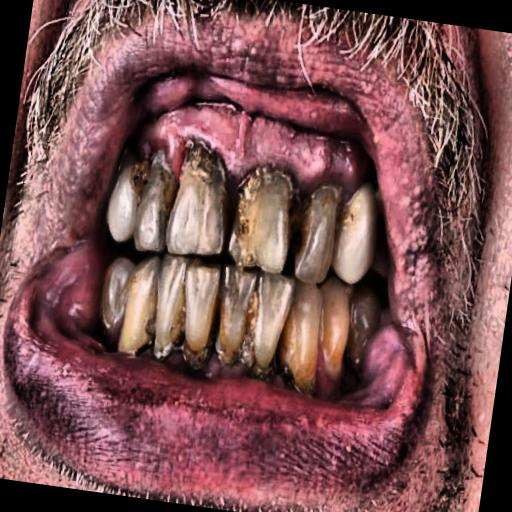Caries: (116, 308, 318, 394), (105, 102, 232, 219), (274, 177, 352, 268)
